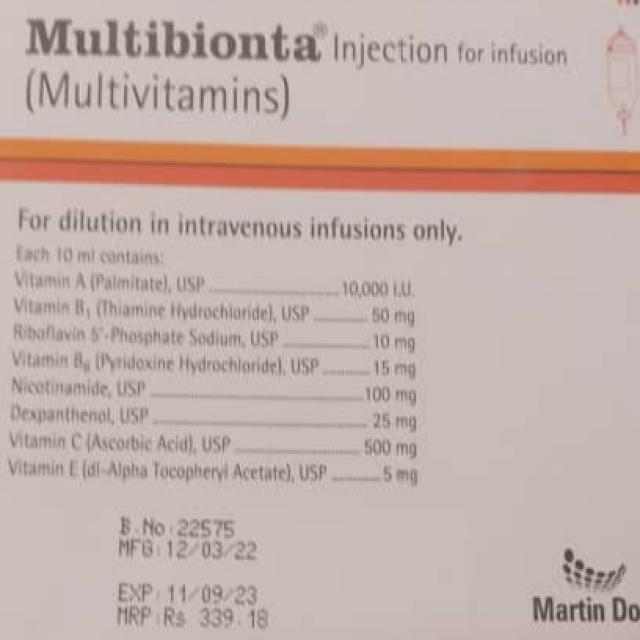drug-name: (19, 8, 324, 66)
